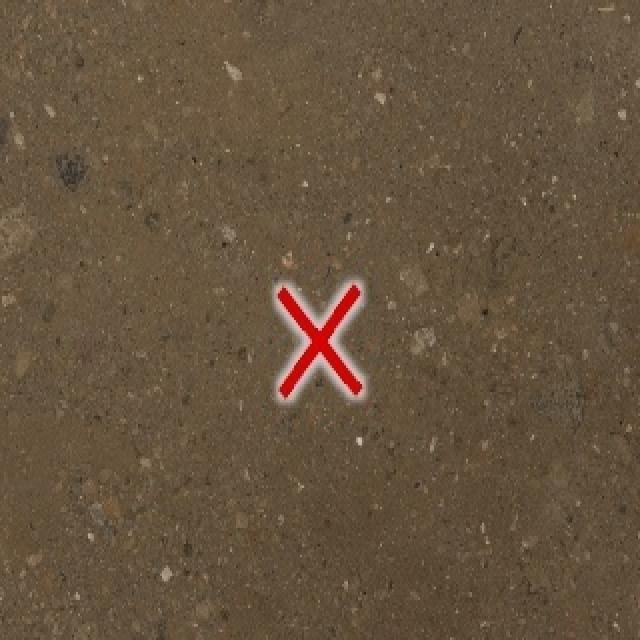x_marker: (277, 284, 361, 396)
